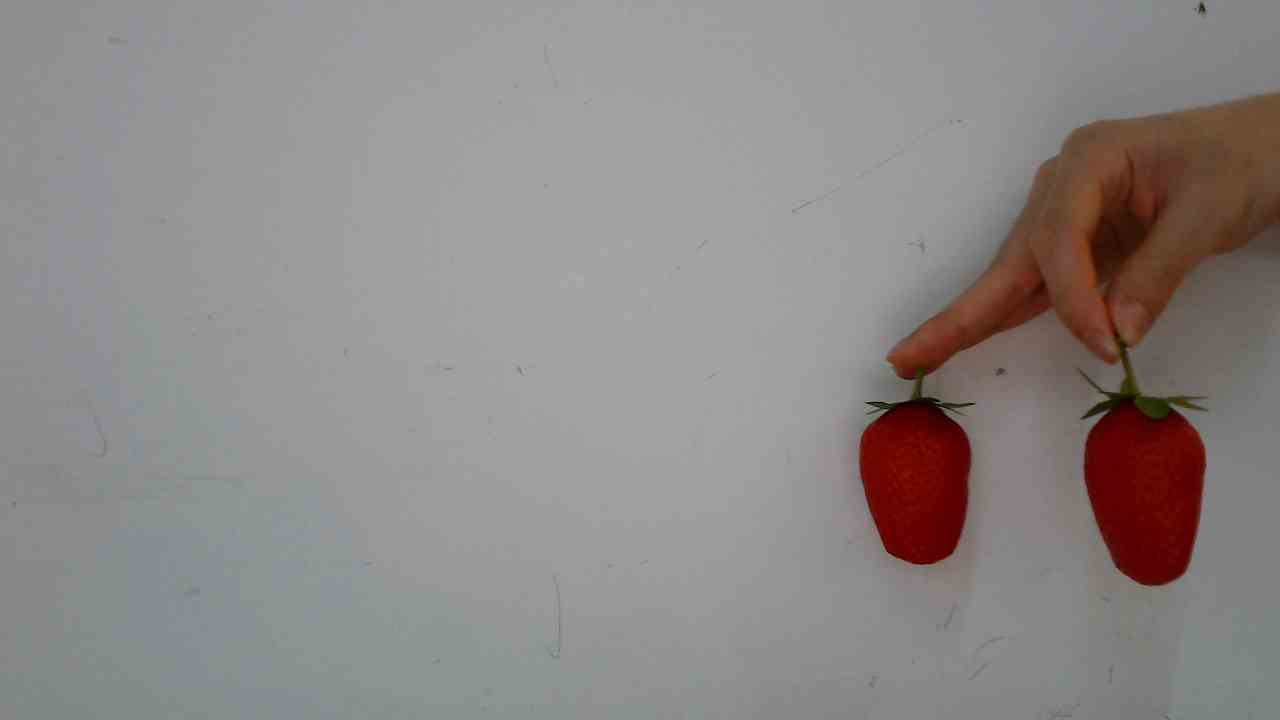strawberry: (1060, 379, 1224, 588), (849, 393, 984, 571)
